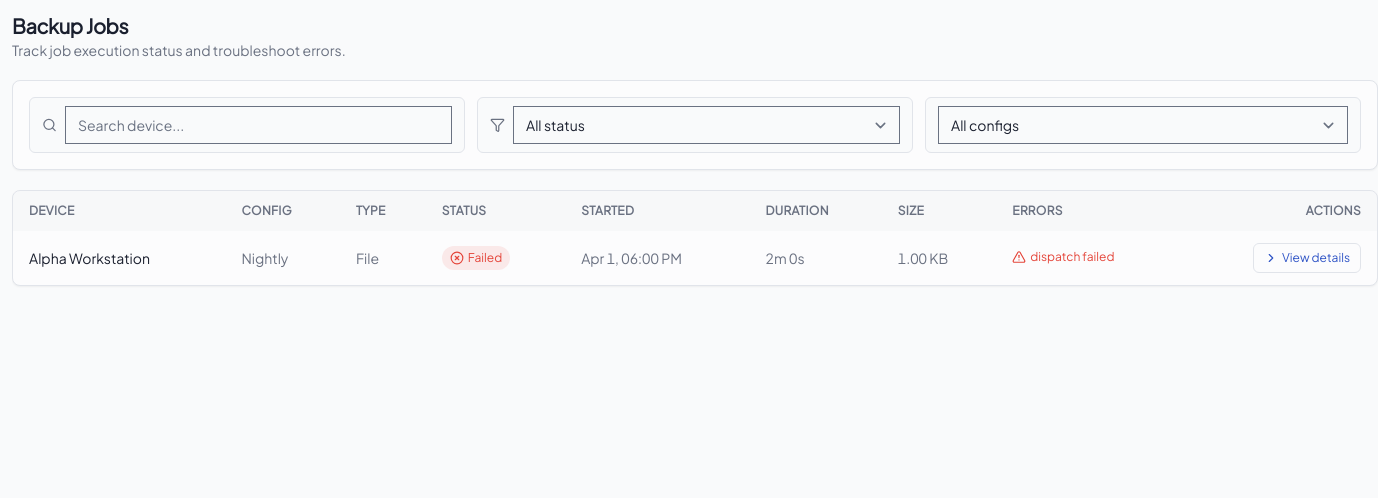
it: BackupJobList › loads inline job details from the backup jobs API
Expected: the text "Alpha Workstation" is shown, [13,231,225,285]
Click the button with aria-label "View details for Alpha Workstation backup": (1307, 258) [1253,243,1361,273]
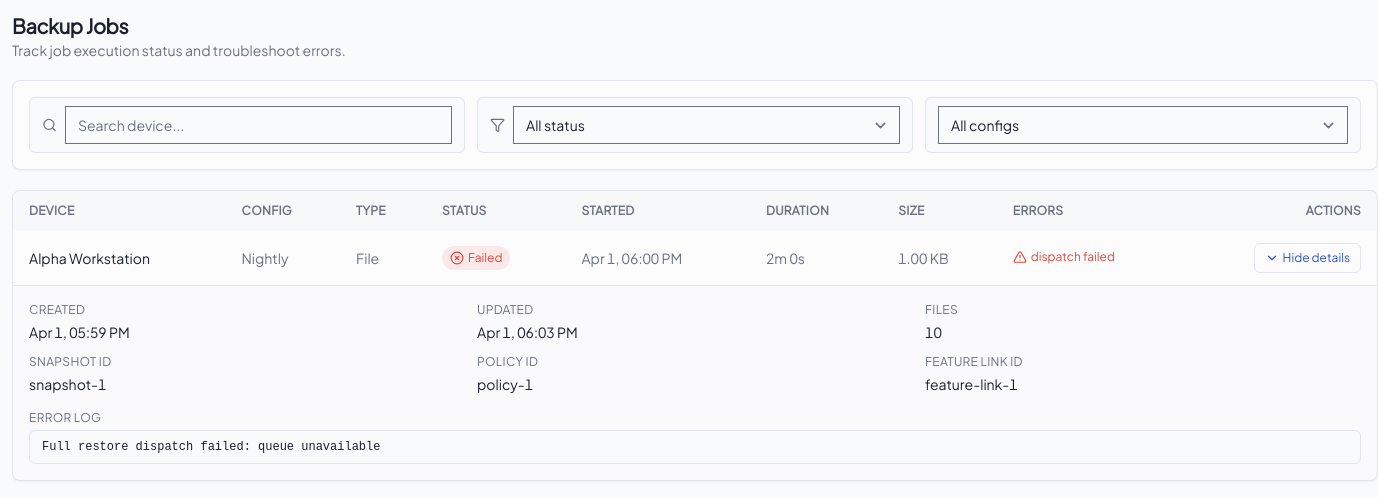
Expected: the text "snapshot-1" is shown, [29,375,106,393]
Expected: the text "policy-1" is shown, [477,375,533,393]
Expected: the text "Full restore dispatch failed: queue unavailable" is shown, [29,430,1361,464]
